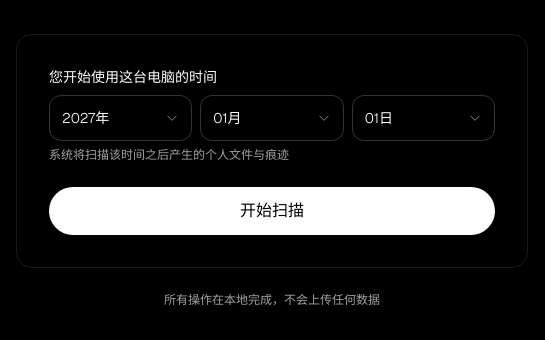
Test case: InputPage › blocks future dates when user bypasses UI and shows error
What coordinates should you click on to do the following:
click the button "开始扫描"
I would click on:
 (272, 211)
Its box is x1=49 y1=187 x2=495 y2=235.
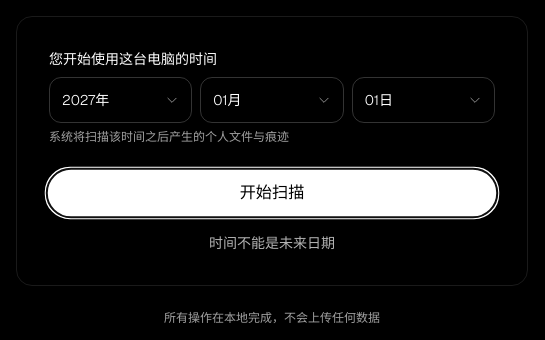
expect the text "时间不能是未来日期" is shown: met, box x1=209 y1=234 x2=335 y2=252
